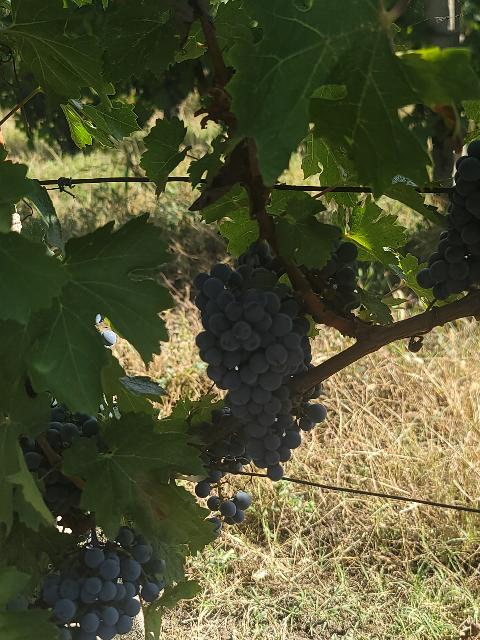grapes: (192, 242, 310, 480), (42, 528, 165, 640), (418, 140, 480, 300), (301, 405, 325, 430)
